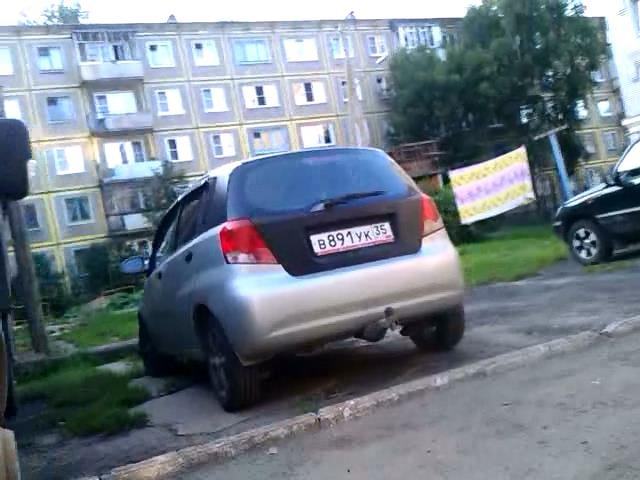car license plate: (309, 219, 395, 259)
